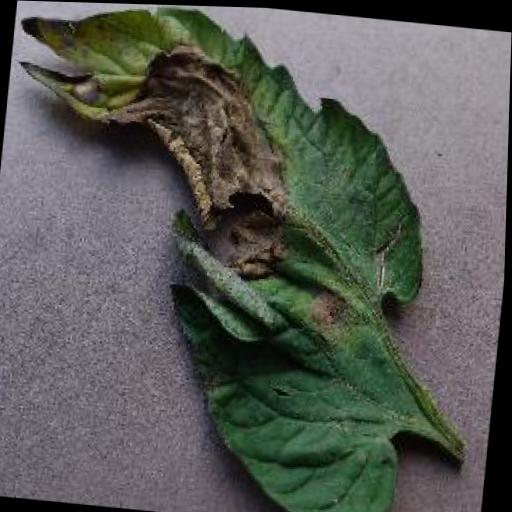Late Blight: (0, 0, 447, 512)
